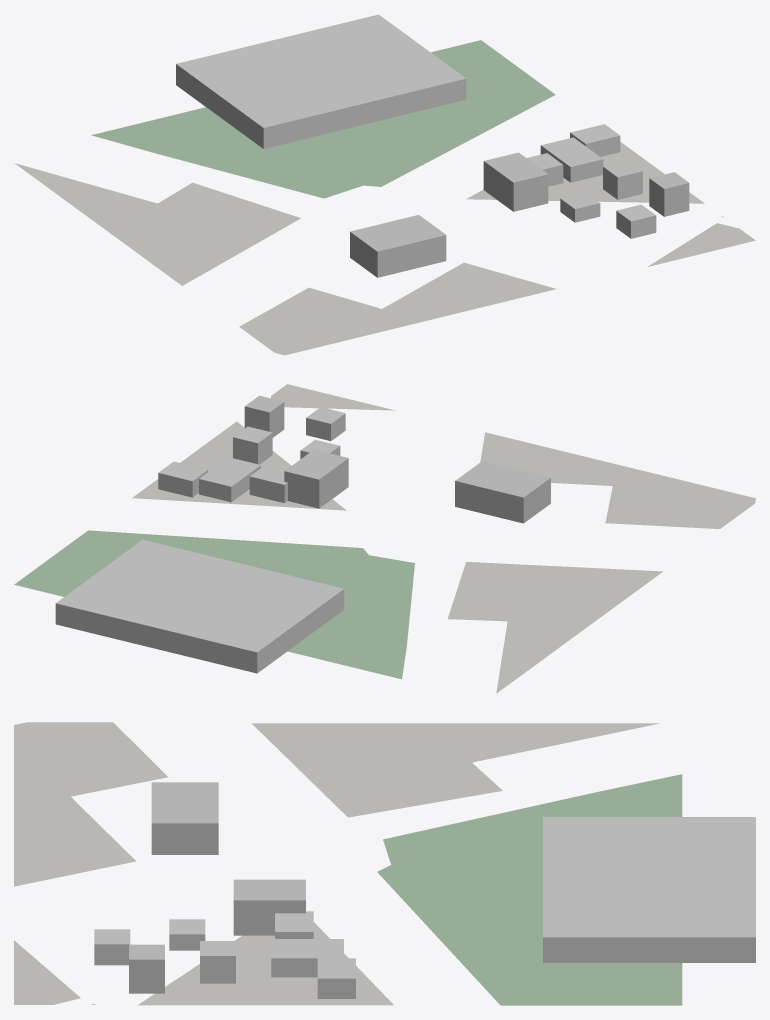
The model's file is 92_104_mid.glb.
3 views of the same model, one above another, from view 1: azimuth 30°, elevation 25°; view 2: azimuth 150°, elevation 25°; view 3: azimuth 270°, elevation 25° (orthographic). The views are drawn at different scales.
Bounding box in the file's own units: 500 × 29.77 × 555.
